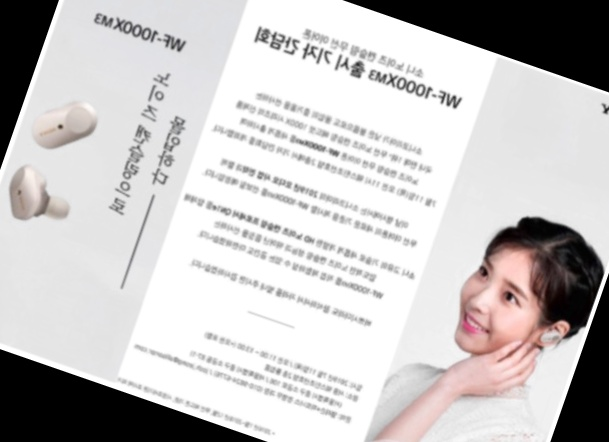earphone: (535, 314, 572, 355)
